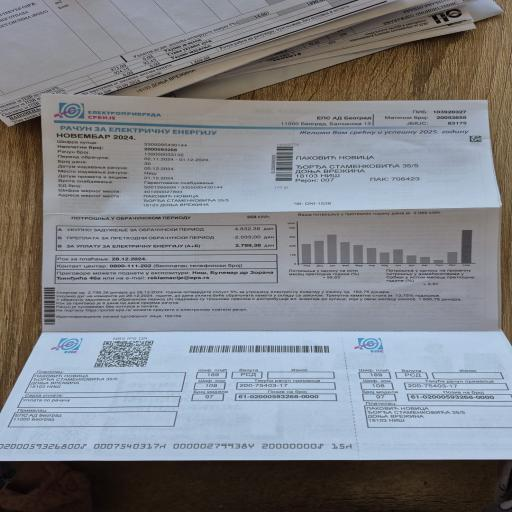racun_za_struju: (51, 211, 284, 262)
